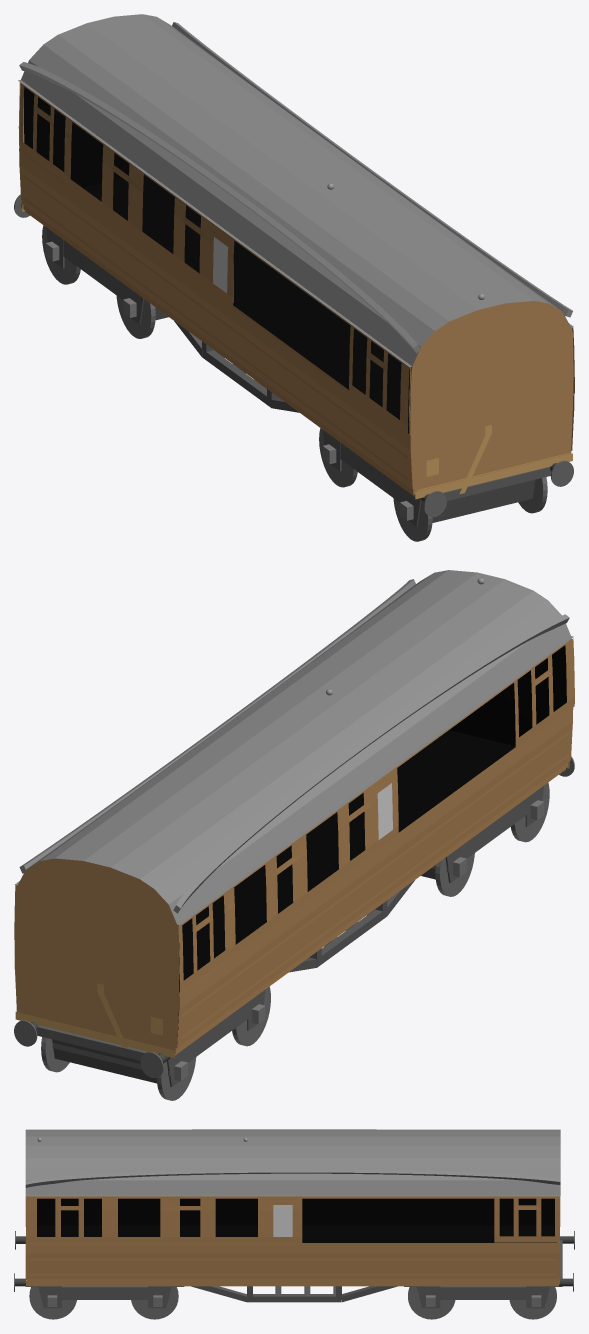
Rendered from lner-standard-51ft-composite-lavatory-teak.dae.
3 renders of one model, top to bottom at view 1: azimuth 30°, elevation 25°; view 2: azimuth 150°, elevation 25°; view 3: azimuth 270°, elevation 25°, orthographic. The views are drawn at different scales.
Visible parts, largest first — view 1: Plane_002, Plane_006, Plane_359, Plane_083, Plane_019, Cube_043, Plane_011, Cube_028, Plane_012, Cube_029, Plane_009, Plane_003 (+9 smaller); view 2: Plane_002, Plane_001, Plane_359, Plane_083, Plane_019, Plane_011, Cube_043, Cube_028, Cube_070, Plane_012, Cube_029, Plane_009 (+9 smaller); view 3: Plane_083, Plane_359, Plane_019, Plane_002, Plane_013, Cube_043, Plane_012, Cube_029, Plane_000, Plane_007, Cube_072, Plane_016 (+9 smaller).
Part boxes in pixels (<box>): Plane_002: <box>18,20,492,367</box>; Plane_006: <box>409,301,573,488</box>; Plane_359: <box>19,85,574,489</box>; Plane_083: <box>100,14,573,327</box>; Plane_019: <box>24,87,410,433</box>; Cube_043: <box>319,428,551,541</box>; Plane_011: <box>64,116,213,291</box>; Cube_028: <box>19,62,420,352</box>; Plane_012: <box>23,205,571,494</box>; Cube_029: <box>172,22,572,317</box>; Plane_009: <box>349,325,409,435</box>; Plane_003: <box>415,425,572,499</box>; Plane_002: <box>97,575,573,924</box>; Plane_001: <box>14,858,179,1048</box>; Plane_359: <box>14,640,573,1047</box>; Plane_083: <box>14,570,491,885</box>; Plane_019: <box>177,645,566,1043</box>; Plane_011: <box>227,786,377,958</box>; Cube_043: <box>421,782,549,896</box>; Cube_028: <box>173,614,569,913</box>; Cube_070: <box>36,1025,185,1086</box>; Plane_012: <box>16,762,568,1053</box>; Cube_029: <box>19,579,415,873</box>; Plane_009: <box>514,638,574,749</box>; Plane_083: <box>25,1141,560,1196</box>; Plane_359: <box>25,1196,560,1279</box>; Plane_019: <box>37,1198,557,1242</box>; Plane_002: <box>25,1129,560,1141</box>; Plane_013: <box>106,1197,270,1243</box>; Cube_043: <box>25,1240,184,1319</box>; Plane_012: <box>27,1242,559,1284</box>; Cube_029: <box>25,1169,560,1187</box>; Plane_000: <box>26,1197,106,1243</box>; Plane_007: <box>26,1280,558,1286</box>; Cube_072: <box>440,1286,547,1299</box>; Plane_016: <box>494,1198,559,1242</box>.
Size of the model in its own units: 2.09 by 8.92 by 2.85.
